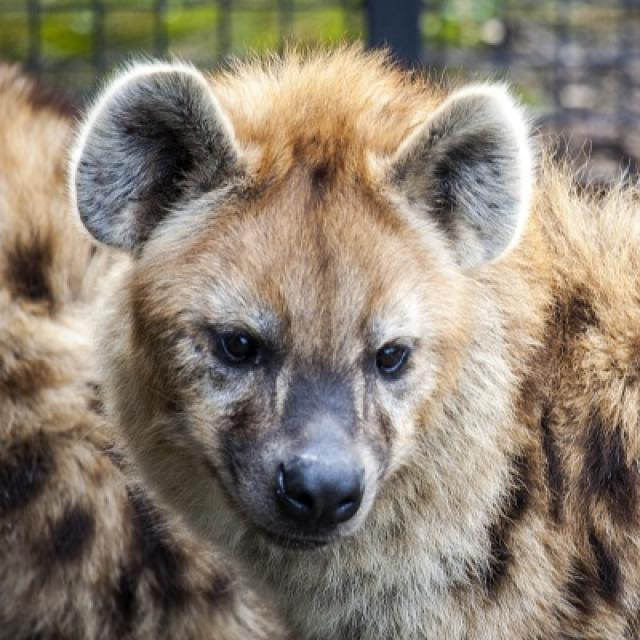hyena: (0, 45, 638, 638)
